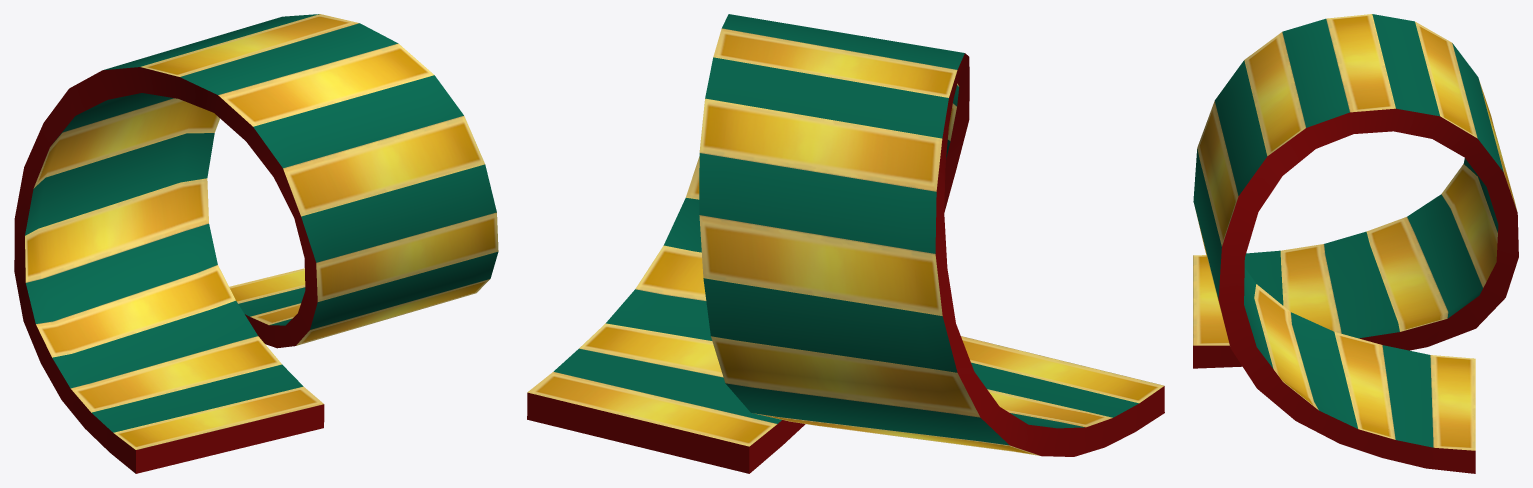
The model's file is egypt_loop_small.gltf.
The picture shows the model from 3 angles, left to right: view 1: azimuth 30°, elevation 25°; view 2: azimuth 150°, elevation 25°; view 3: azimuth 270°, elevation 25°; orthographic projection. The views are drawn at different scales.
Parts seen in each view (by area): view 1: egypt_loop_small_glb; view 2: egypt_loop_small_glb; view 3: egypt_loop_small_glb.
Boxes of the visible parts, x1,y1,x2,y2 form: egypt_loop_small_glb: [14, 14, 498, 473]; egypt_loop_small_glb: [527, 14, 1164, 473]; egypt_loop_small_glb: [1193, 14, 1518, 473].
Size of what is drawn, in the model's own units: 4.5 by 3.37 by 3.17.
1 material, 1 textured.
